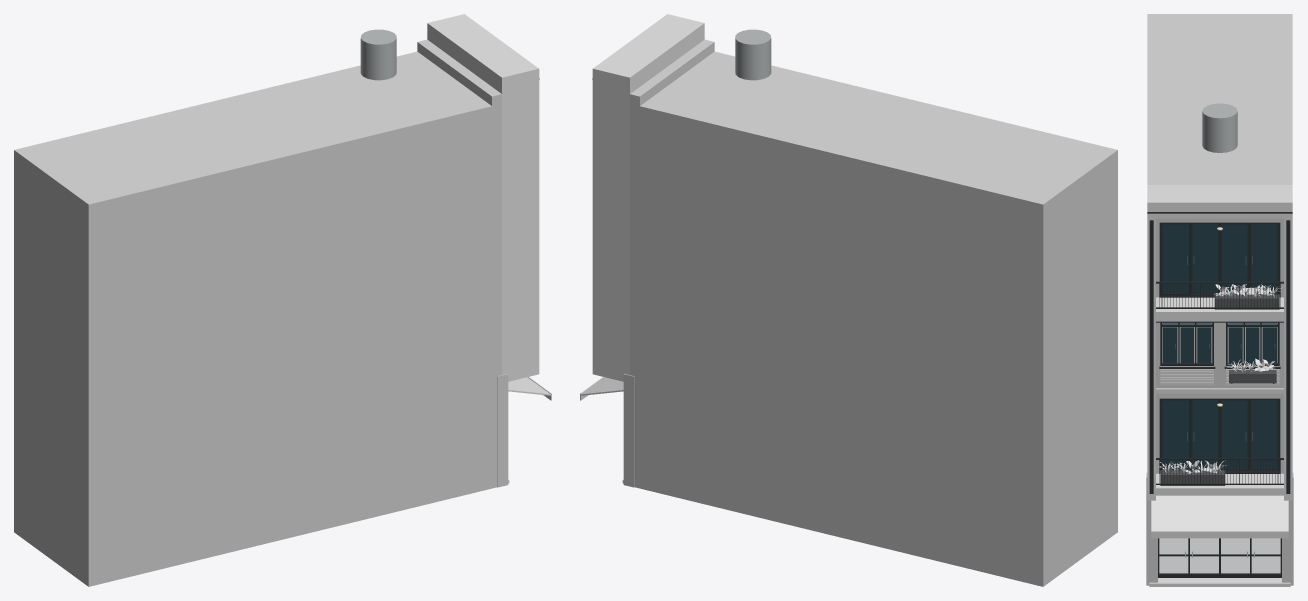
Rendered from OW_Mau_NhaPho_5_0_3.fbx.
3 renders of one model, left to right at view 1: azimuth 30°, elevation 25°; view 2: azimuth 150°, elevation 25°; view 3: azimuth 270°, elevation 25°, orthographic. The views are drawn at different scales.
Visible parts, largest first — view 1: OW_NhaPho_9014; view 2: OW_NhaPho_9014; view 3: OW_NhaPho_9014, OW_MatTienKinh.
Boxes of the visible parts, left/top/right/bottom form: OW_NhaPho_9014: left=14, top=14, right=551, bottom=586; OW_NhaPho_9014: left=580, top=14, right=1117, bottom=586; OW_NhaPho_9014: left=1146, top=14, right=1293, bottom=586; OW_MatTienKinh: left=1158, top=538, right=1281, bottom=577.
Bounding box in the file's own units: 17.77 × 16.15 × 5.
